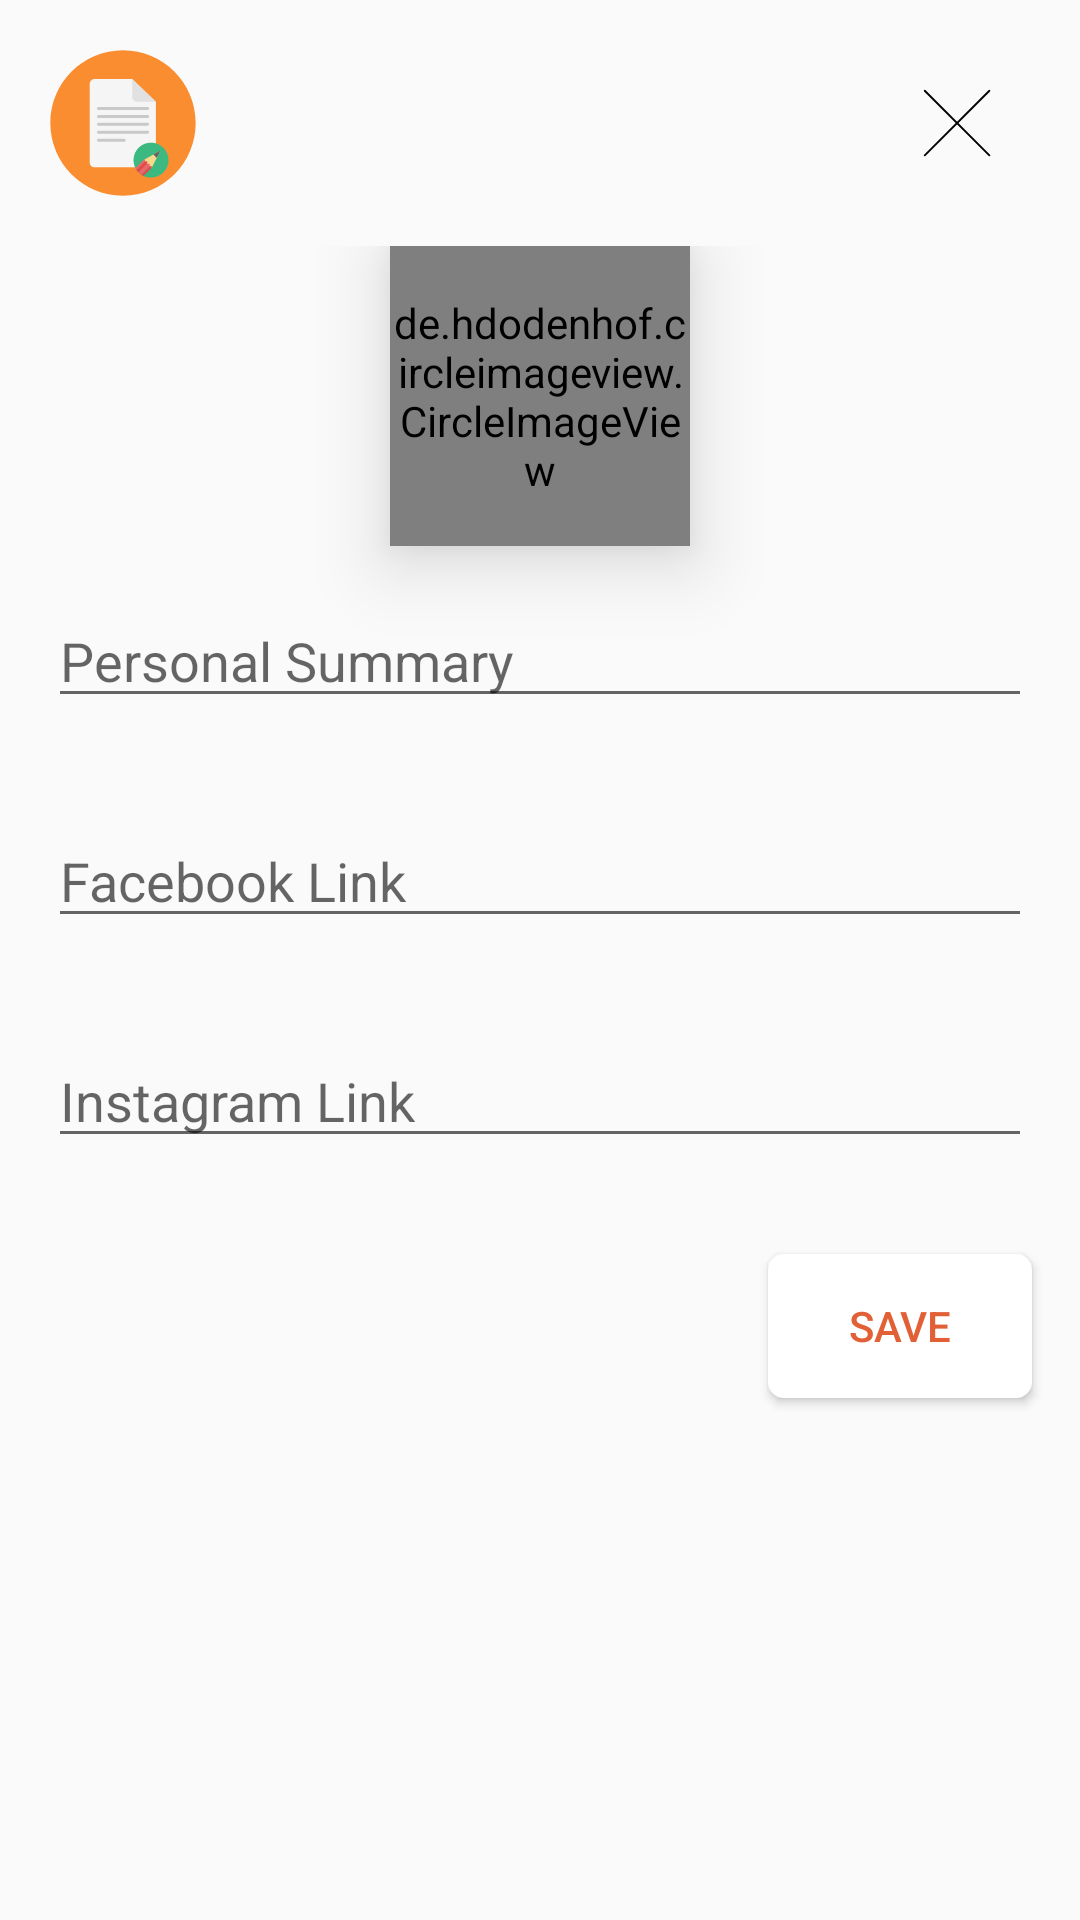

Where icons sit on this 1080w x 1920h app screen, as (x1, y1, x2, y2):
close: (923, 89, 991, 157)
edit profile: (50, 50, 196, 196)
